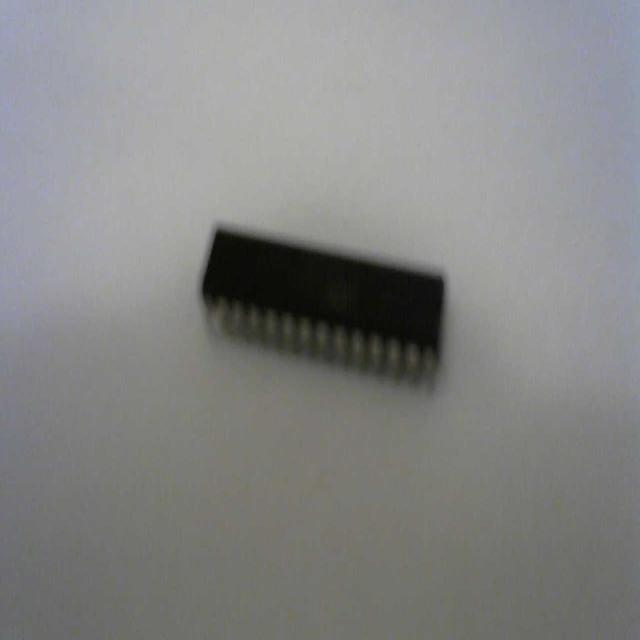atmega: (198, 219, 448, 393)
